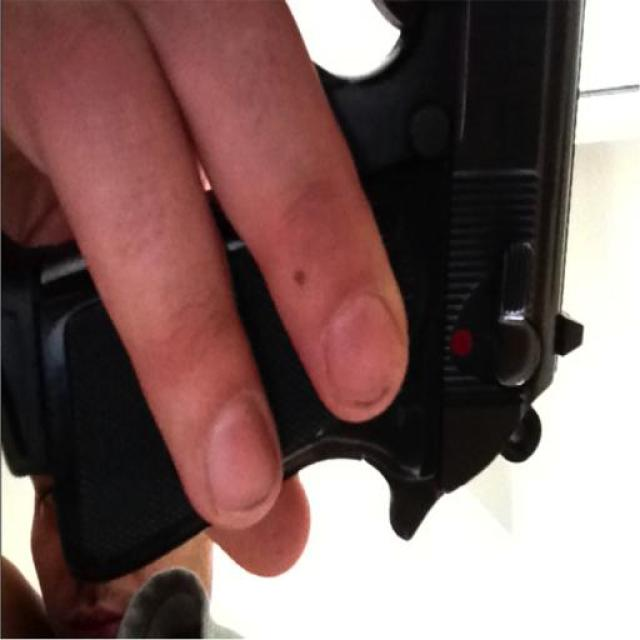pistol: (24, 9, 566, 564)
